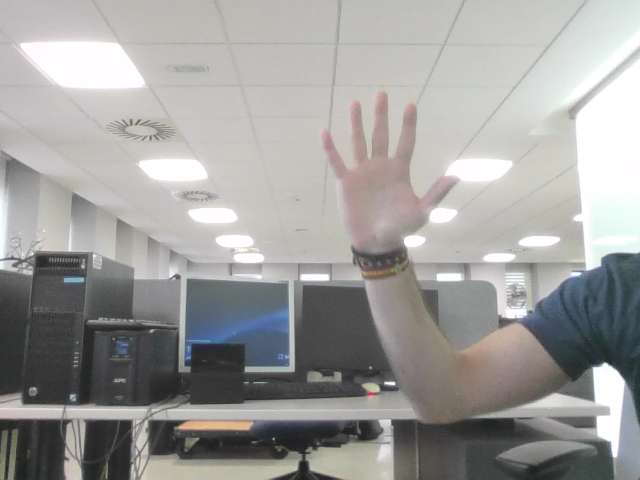Mano Abierta: (330, 103, 443, 221)
